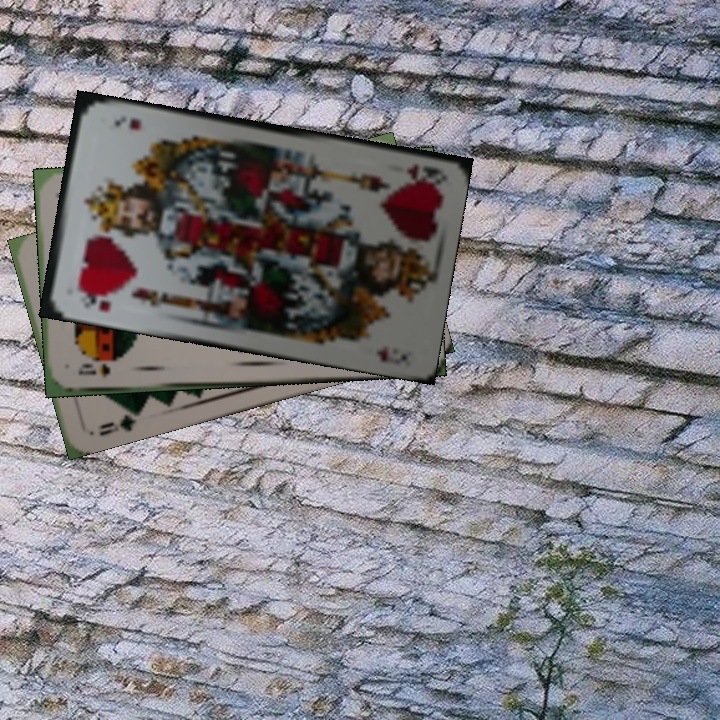G9: (93, 406, 143, 439)
HK: (73, 287, 113, 316), (402, 159, 444, 184)
SO: (74, 359, 113, 381)
